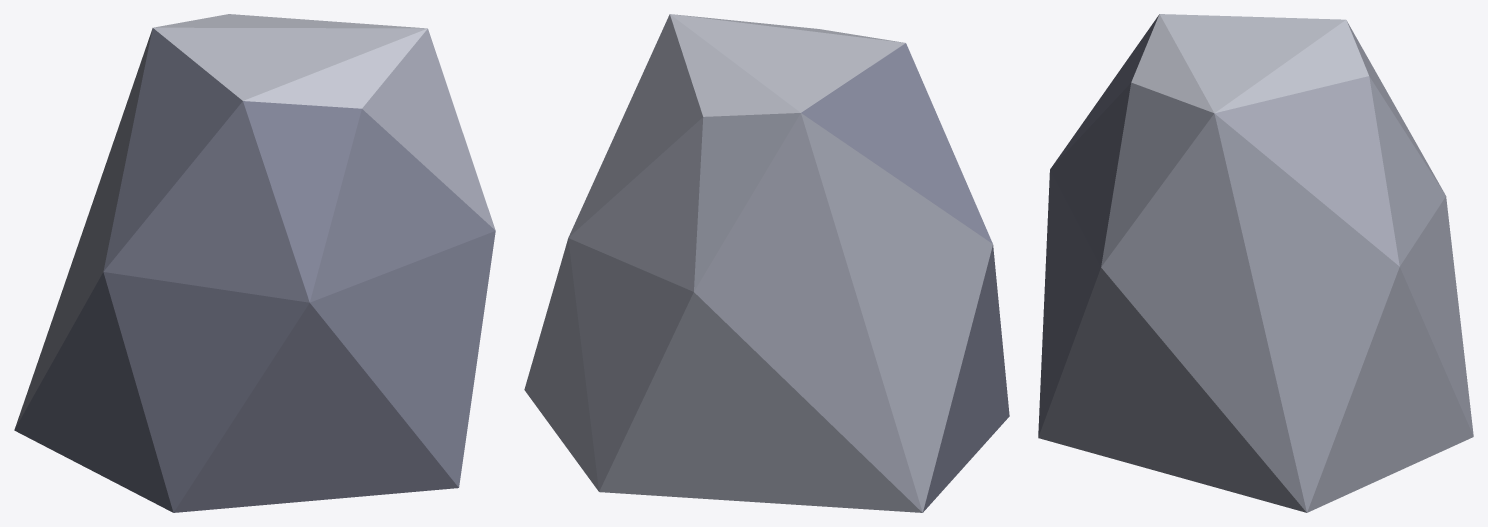
Rendered from stone_smallF.glb.
3 views of the same model, side by side, from view 1: azimuth 30°, elevation 25°; view 2: azimuth 150°, elevation 25°; view 3: azimuth 270°, elevation 25° (orthographic). The views are drawn at different scales.
Visible parts, largest first — view 1: stone_smallF; view 2: stone_smallF; view 3: stone_smallF.
Part boxes in pixels (box(x1,y1,x2,y2)): stone_smallF: box(14, 14, 495, 512); stone_smallF: box(524, 14, 1009, 512); stone_smallF: box(1038, 14, 1473, 512).
Size of the model in its own units: 0.2921 by 0.2403 by 0.2676.
1 material, 1 textured.
